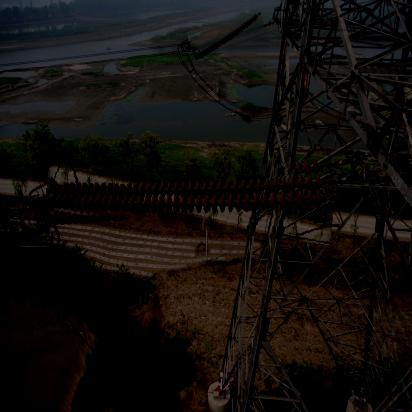insulator: (47, 149, 338, 237), (189, 18, 268, 56)
